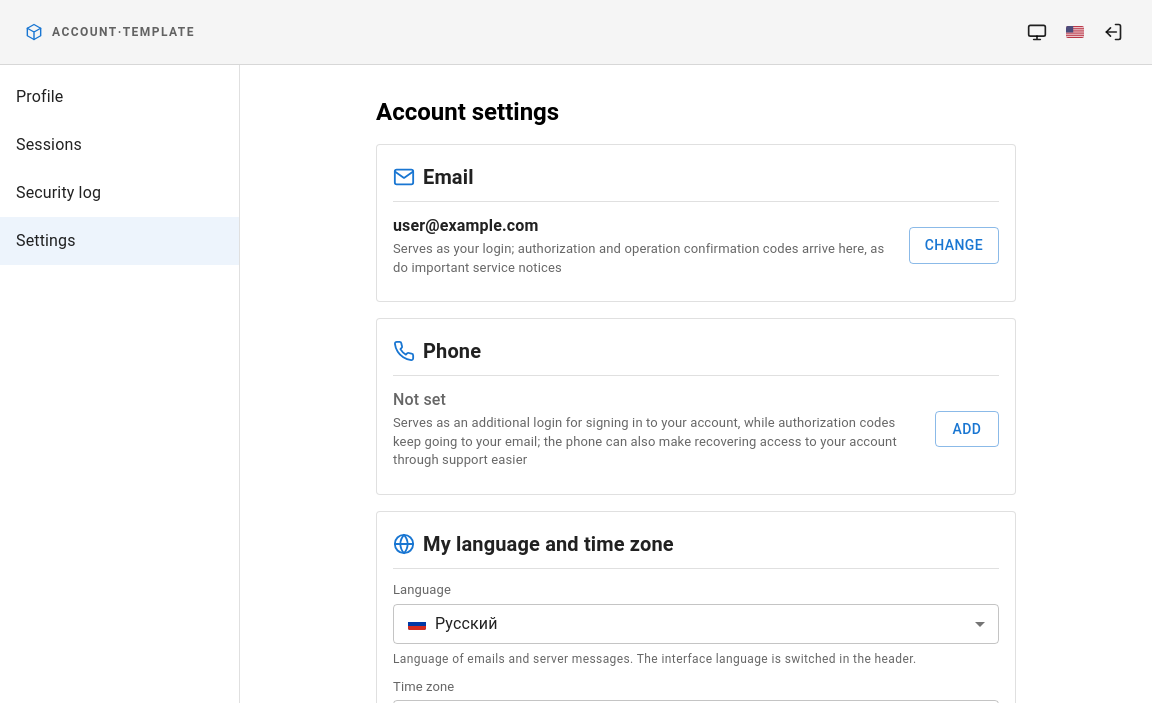
Test: SettingsPage (email and phone) › keeps one edit open at a time: opening the phone closes the email
Click the button "Change": [954, 246] box left=909, top=227, right=999, bottom=264
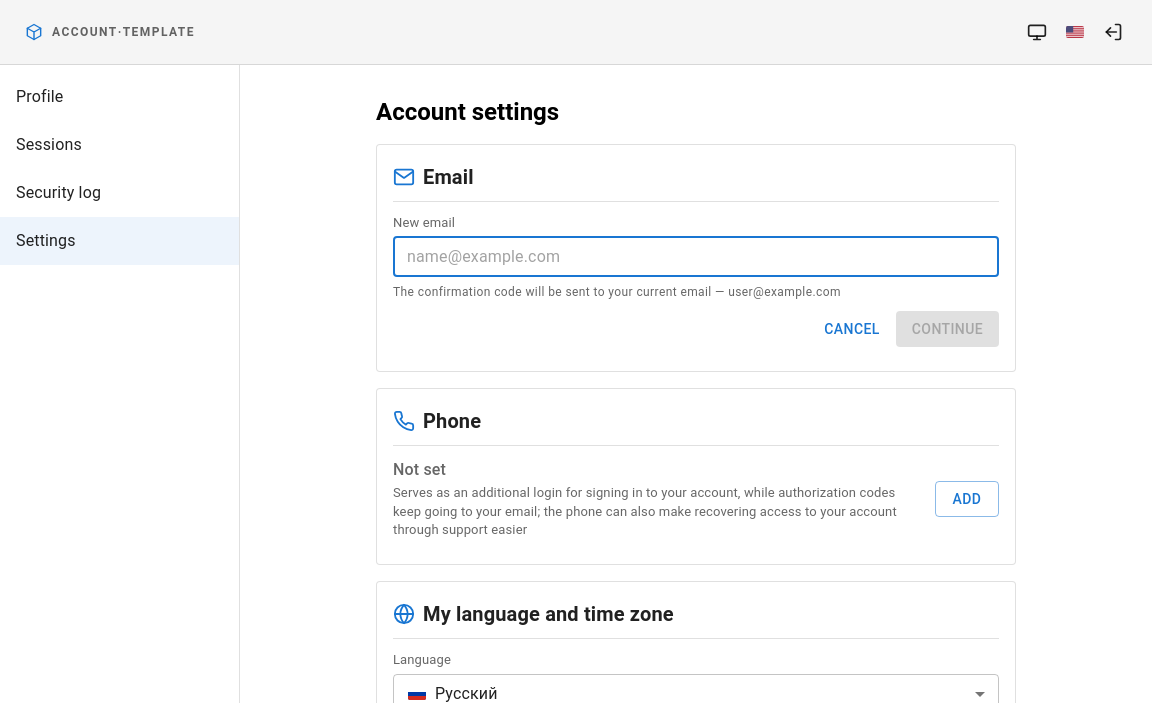
Now the field labelled "New email" is shown, box left=393, top=237, right=999, bottom=277
Click the button "Add": [967, 499] box left=935, top=481, right=999, bottom=517
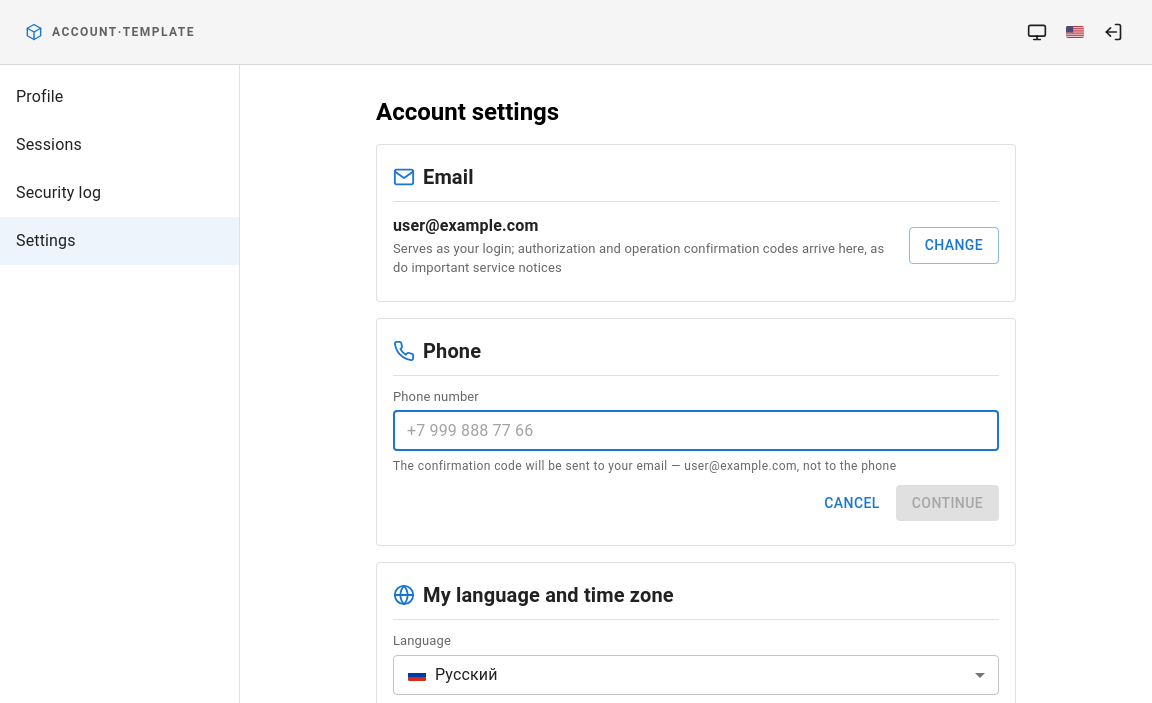
Now the label labelled "New email" is gone
Now the field labelled "Phone number" is shown, box left=393, top=411, right=999, bottom=451
